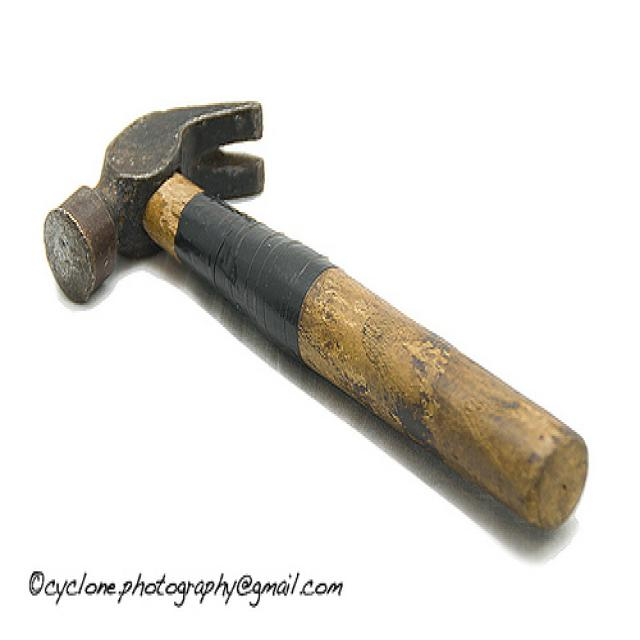hammer: (29, 34, 614, 557)
